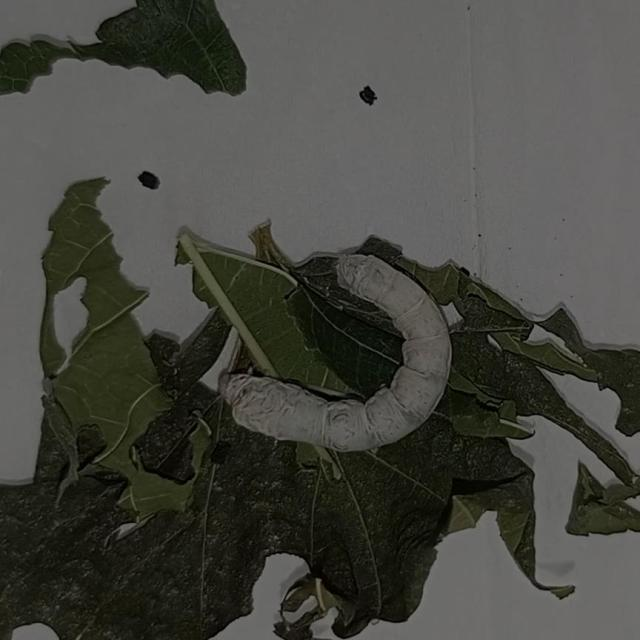Healthy: (208, 241, 461, 464)
